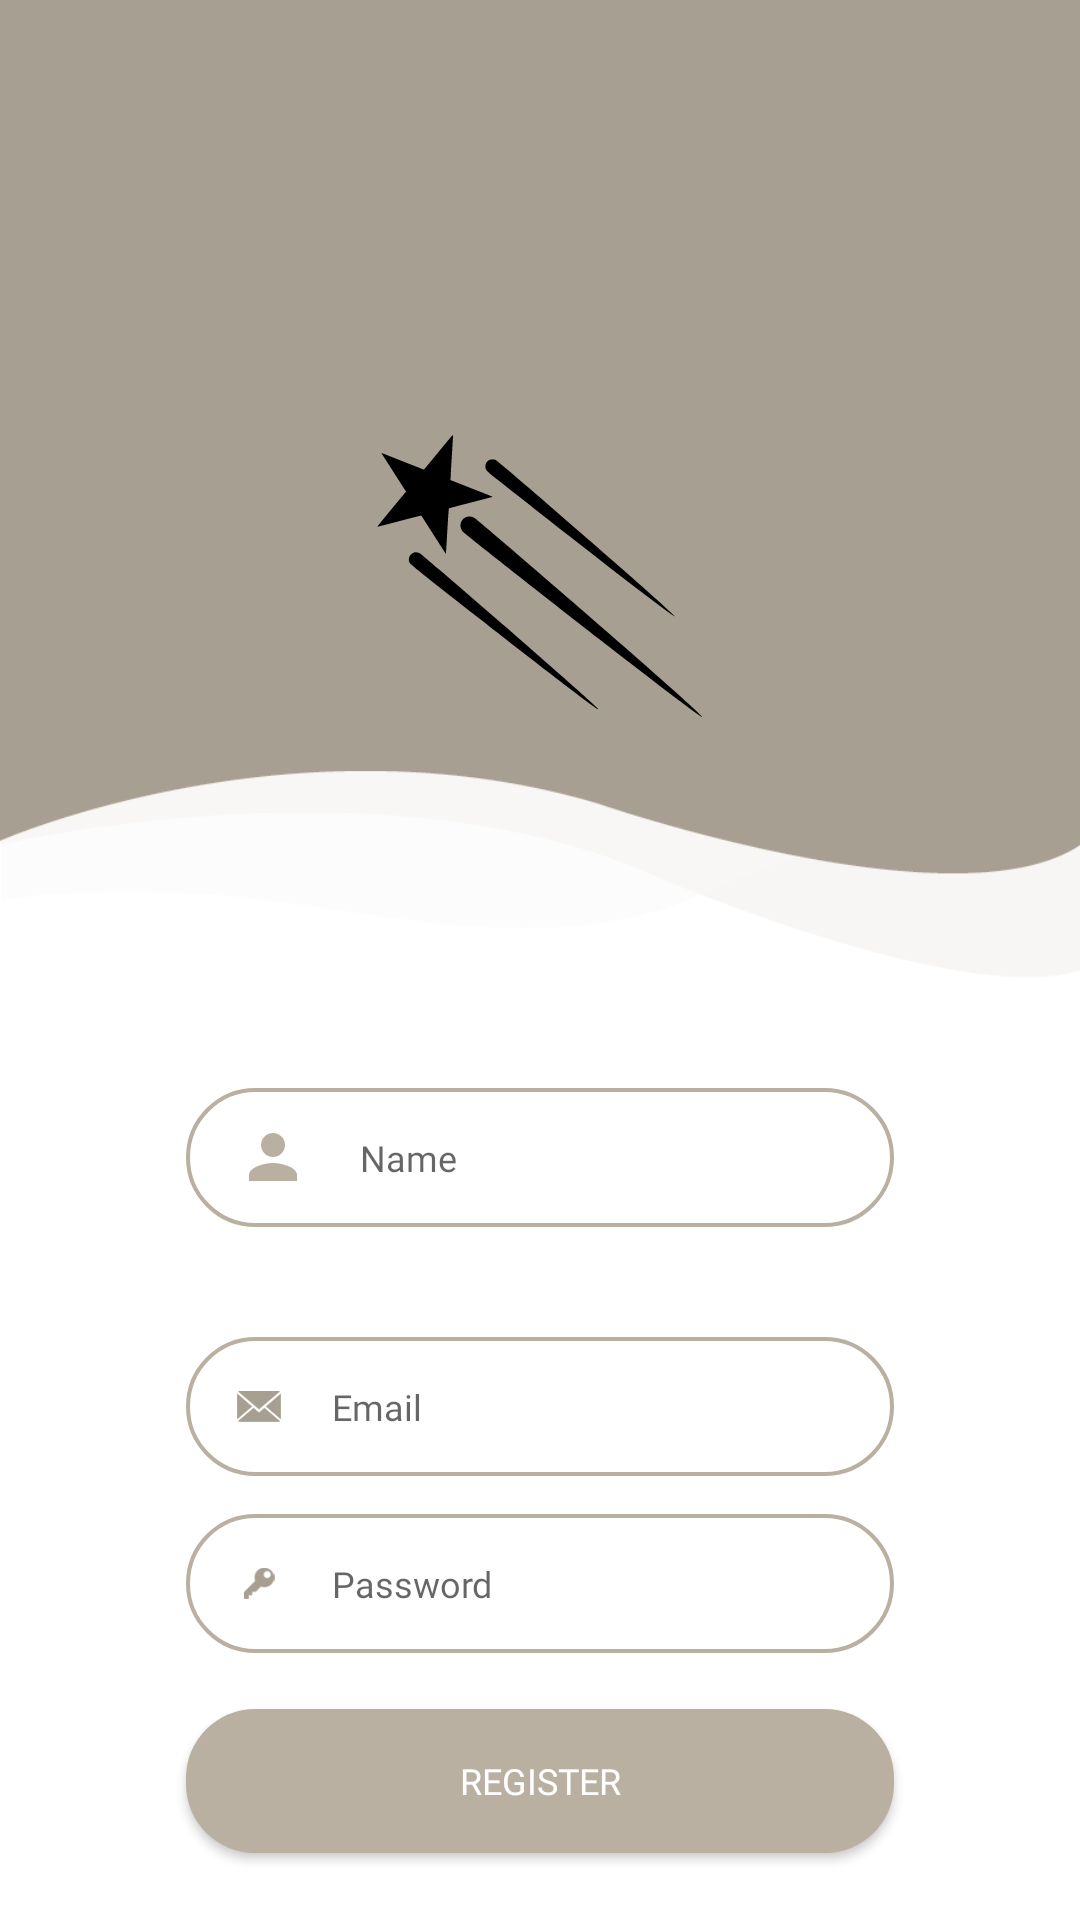

Named icons in this screenshot (1080px x 1920px) and their bounding boxes, (x1, y1, x2, y2):
profile icon: (249, 1133, 297, 1181)
